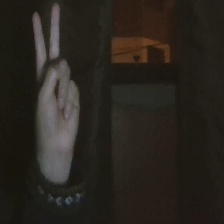V: (22, 1, 88, 166)
